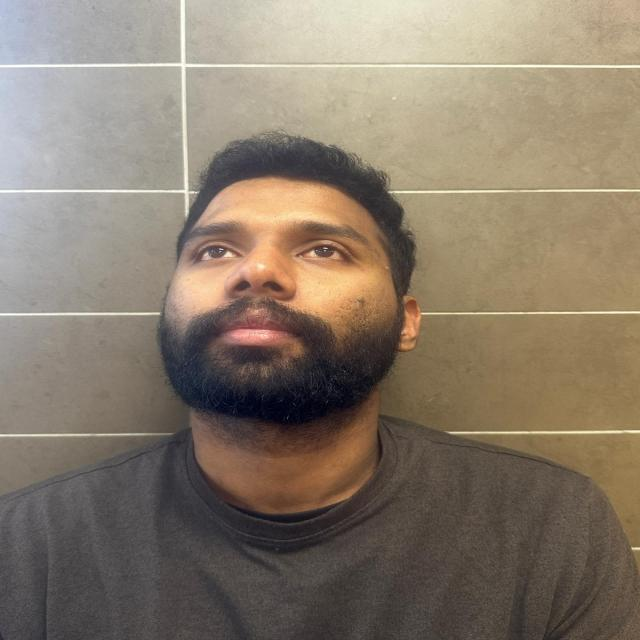nocap: (138, 127, 426, 260)
